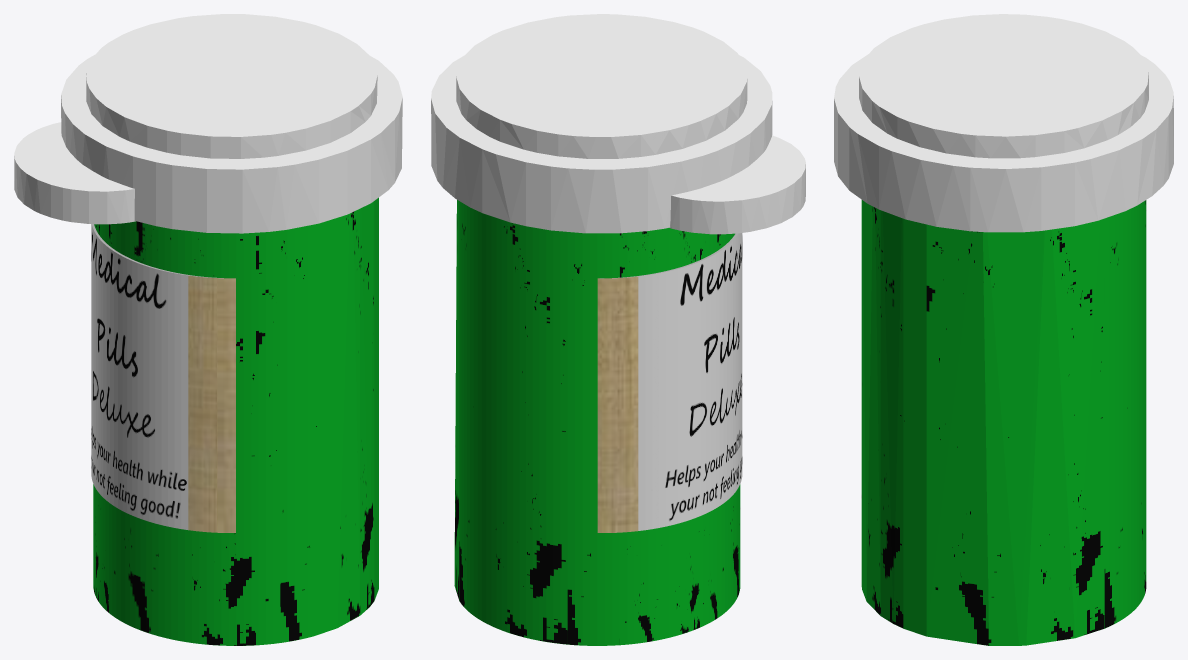
Rendered from medpillsfinaleDeluxe.glb.
The picture shows the model from 3 angles, left to right: view 1: azimuth 30°, elevation 25°; view 2: azimuth 150°, elevation 25°; view 3: azimuth 270°, elevation 25°; orthographic projection.
Bounding box in the file's own units: 0.0561 × 0.0789 × 0.0478.
7 materials, 4 textured.
